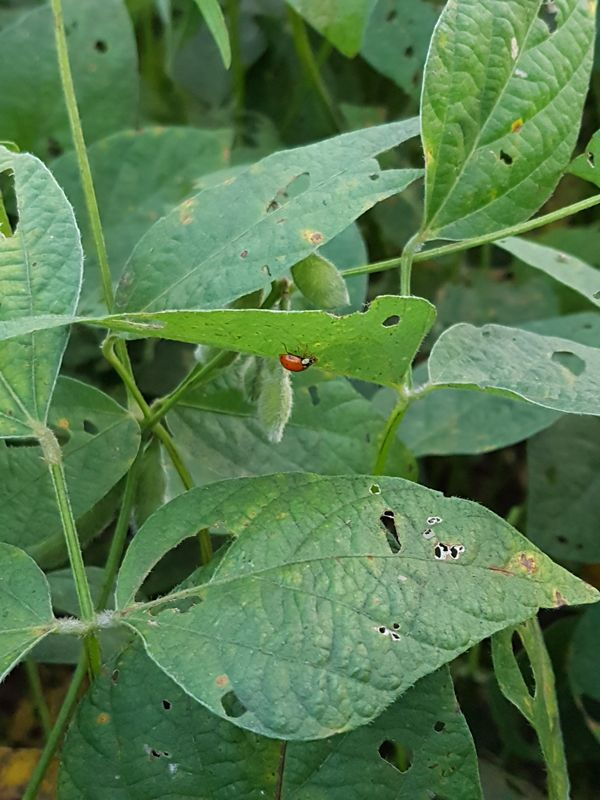Coccinellidae: (268, 336, 325, 384)
